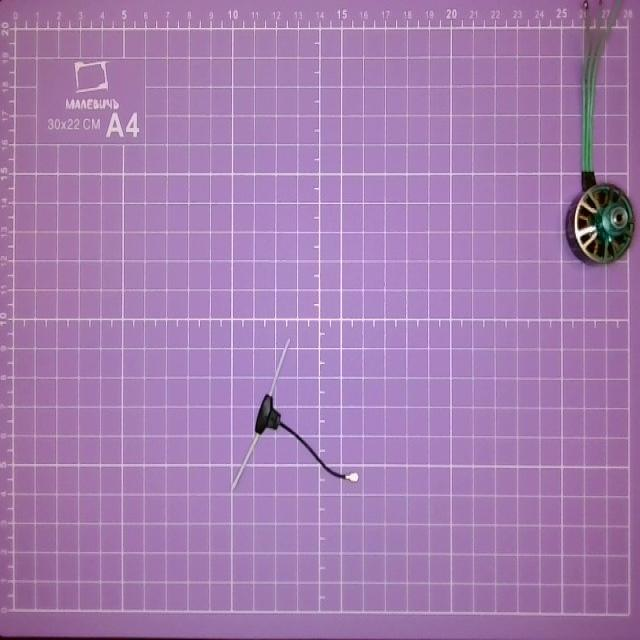antenna: (235, 338, 362, 488)
motor: (562, 0, 638, 267)
